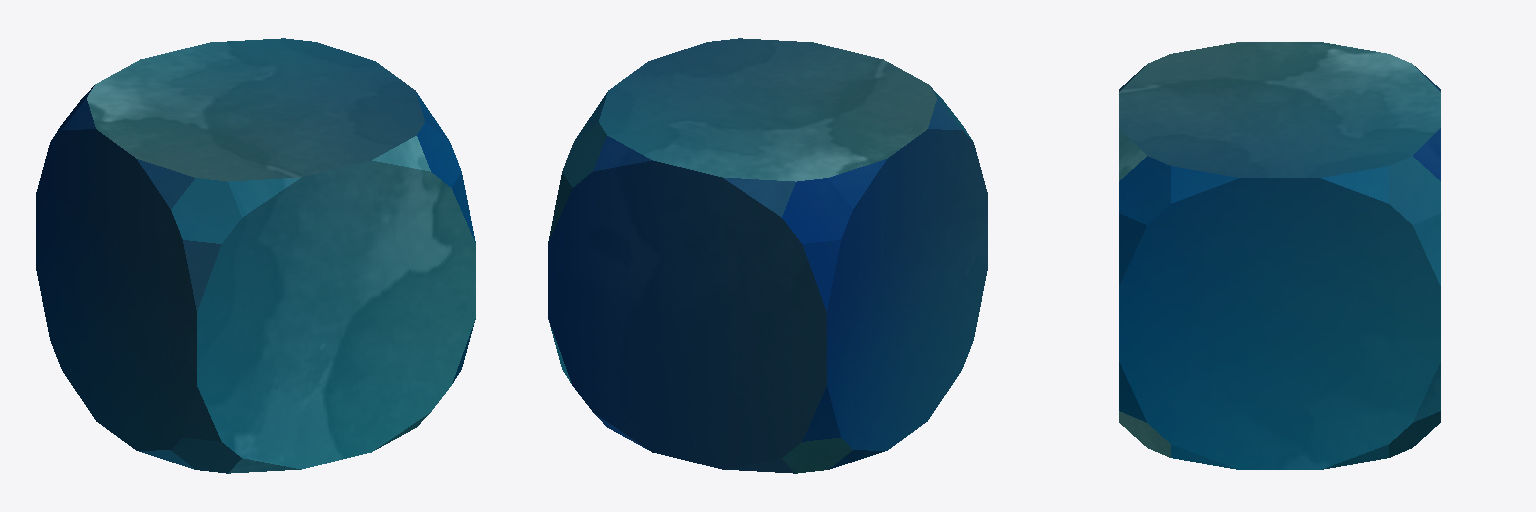
3 renders of one model, left to right at view 1: azimuth 30°, elevation 25°; view 2: azimuth 150°, elevation 25°; view 3: azimuth 270°, elevation 25°, orthographic.
Parts seen in each view (by area): view 1: Cube; view 2: Cube; view 3: Cube.
Boxes of the visible parts, box(x1,y1,x2,y2) form: Cube: box(36, 38, 475, 473); Cube: box(548, 38, 987, 473); Cube: box(1119, 42, 1440, 469).
Bounding box in the file's own units: 2 × 2 × 2.
1 materials, 1 textured.